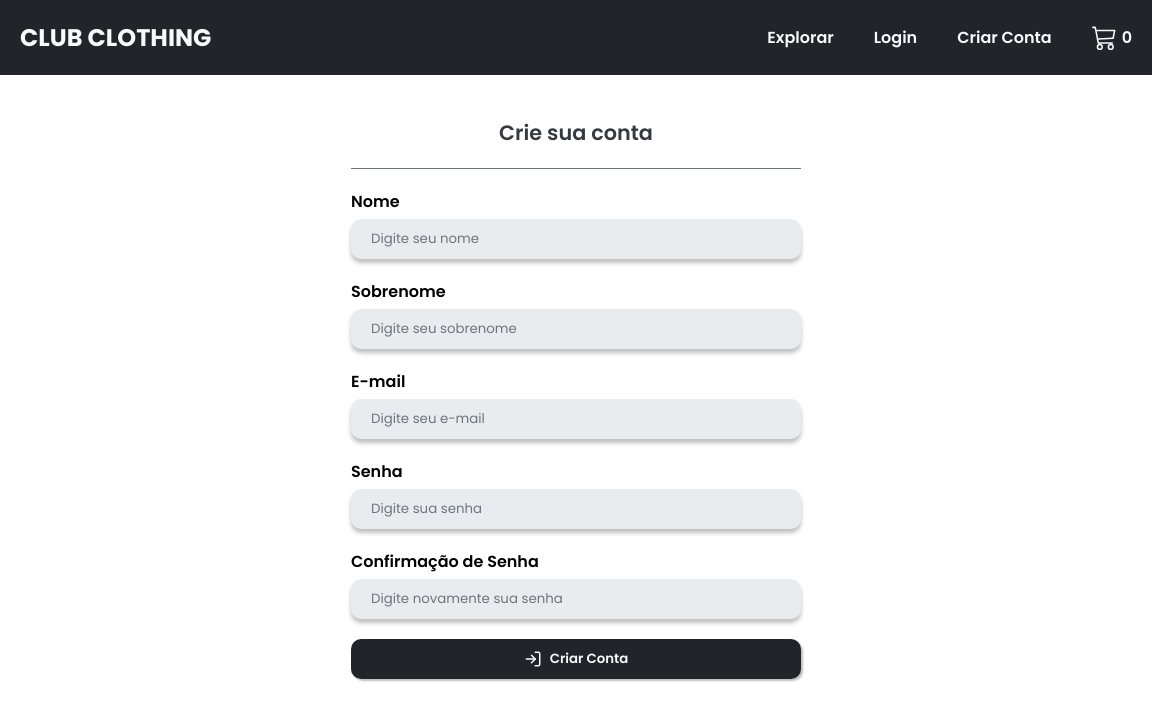
Test: Sign Up › should show error when password and password confirmation are different
The width and height of the screenshot is (1152, 706).
In the password field with placeholder "Digite sua senha": point(576, 508) left=351, top=488, right=801, bottom=528, type "123456"
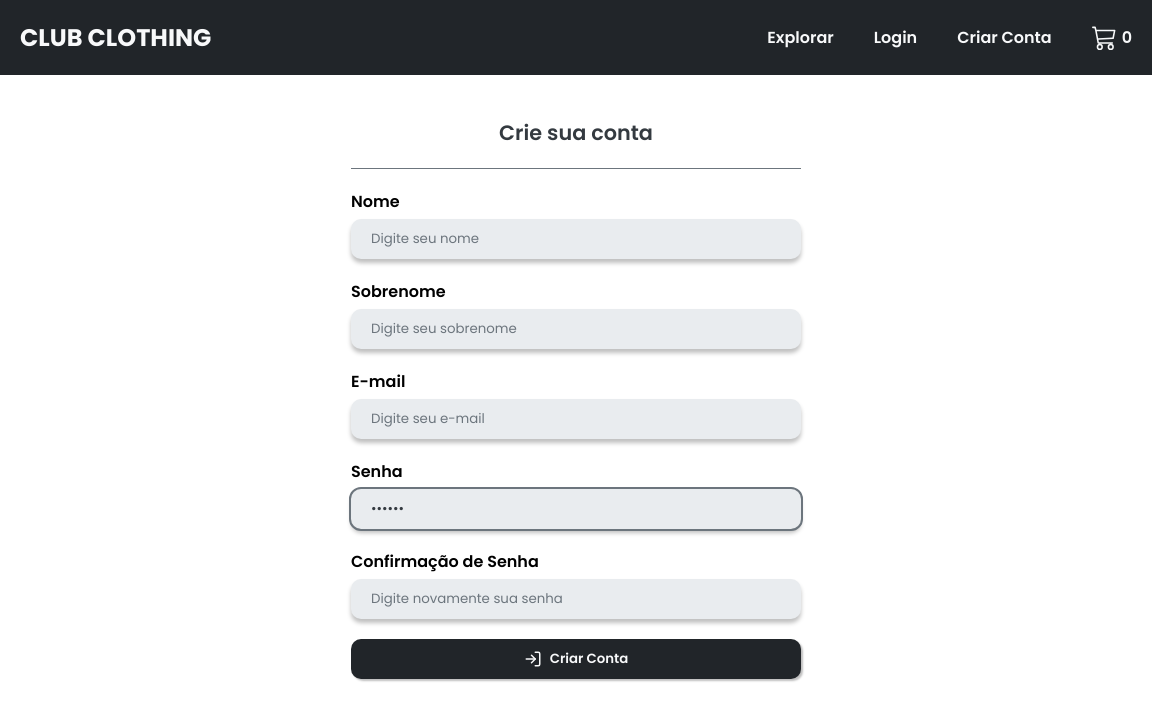
In the password field with placeholder "Digite novamente sua senha": point(576, 598) left=351, top=578, right=801, bottom=618, type "12345678"
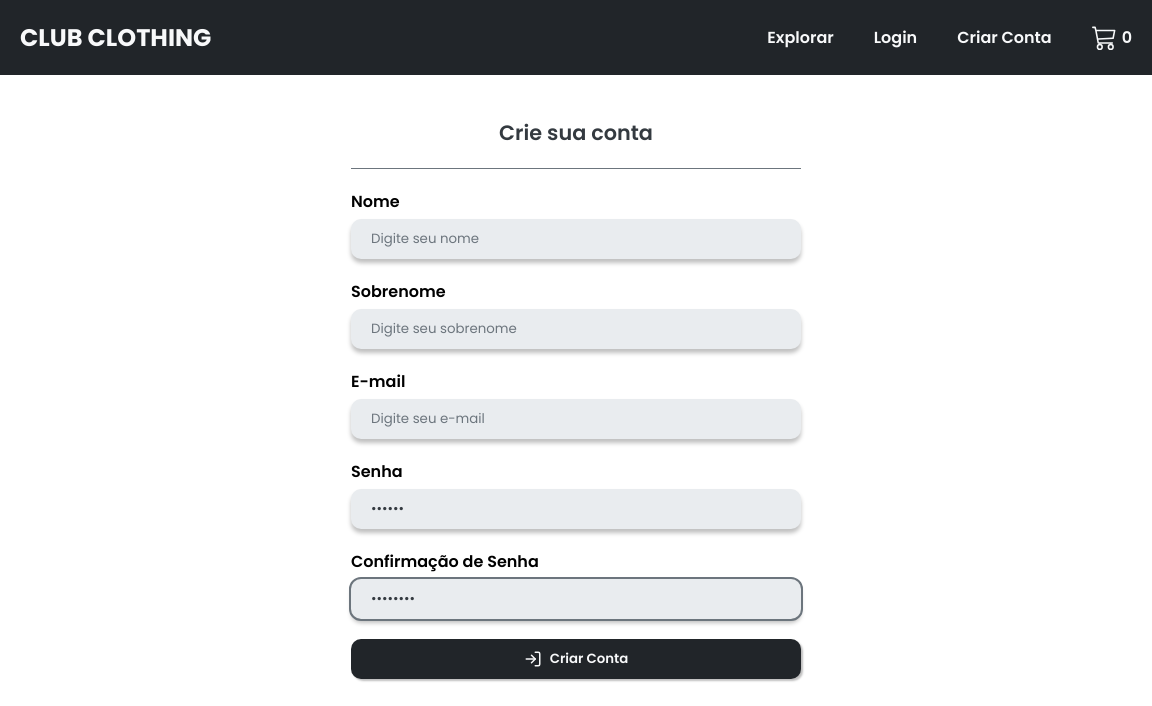
Click the button "Criar Conta": point(576, 658) left=351, top=638, right=801, bottom=678
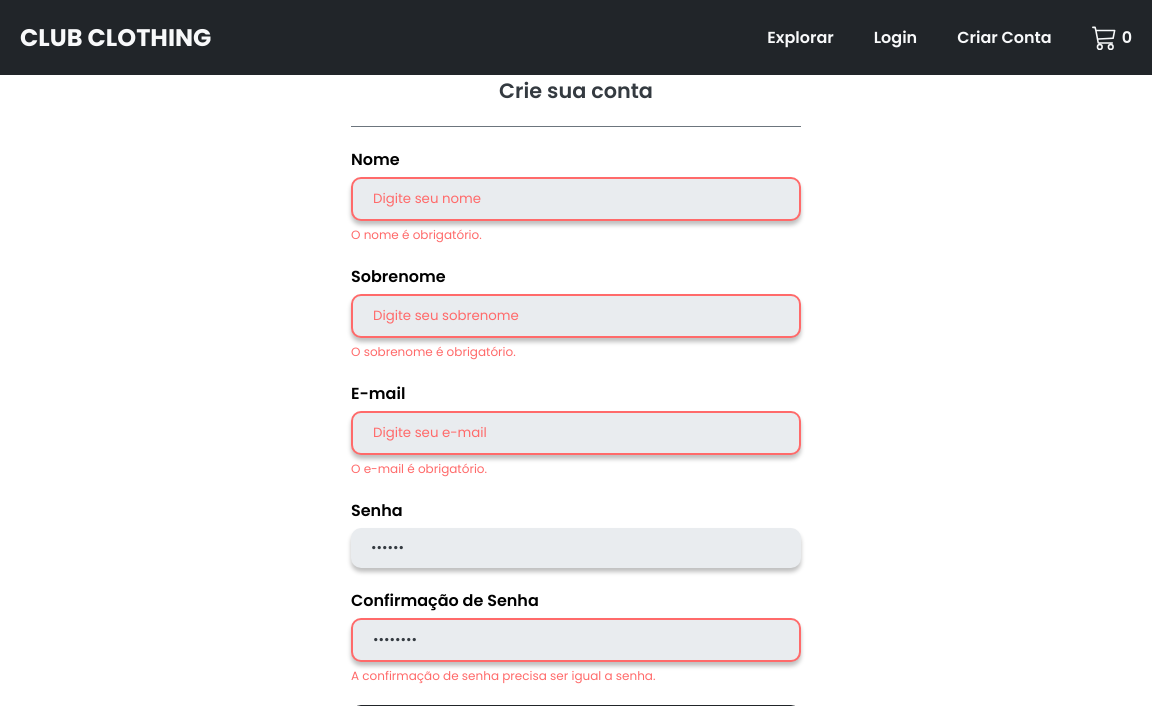
Expected: the text "A confirmação de senha precisa ser igual a senha." is shown, left=351, top=667, right=656, bottom=684
